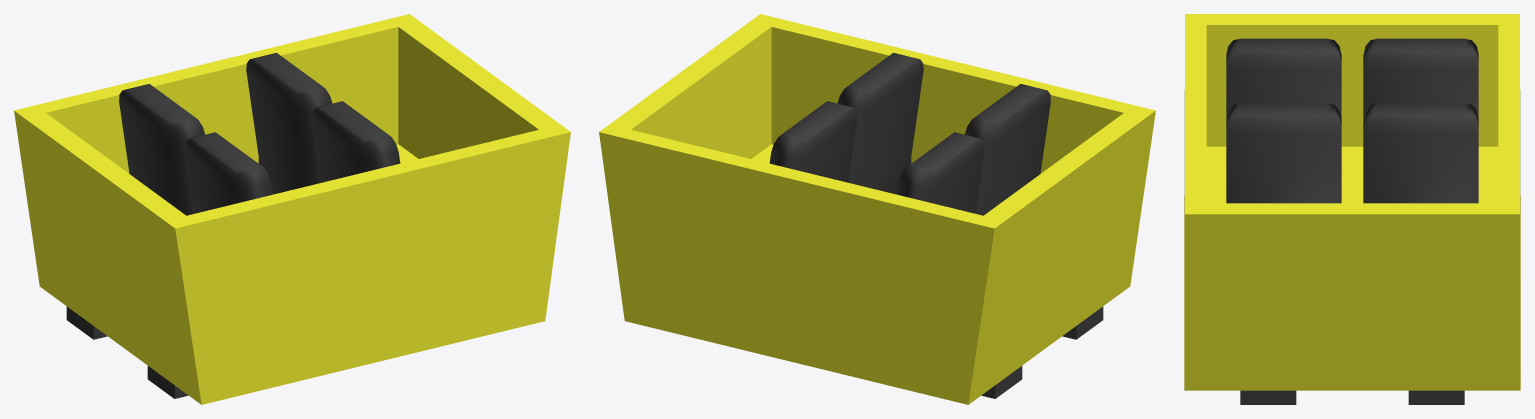
File: coaster.fbx
3 views of the same model, side by side, from view 1: azimuth 30°, elevation 25°; view 2: azimuth 150°, elevation 25°; view 3: azimuth 270°, elevation 25° (orthographic). The views are drawn at different scales.
Parts seen in each view (by area): view 1: Cube, Cube.002; view 2: Cube, Cube.002; view 3: Cube, Cube.002.
Boxes of the visible parts, x1,y1,x2,y2 form: Cube: (14, 14, 570, 404); Cube.002: (119, 53, 400, 215); Cube: (599, 14, 1155, 404); Cube.002: (769, 53, 1050, 215); Cube: (1184, 14, 1520, 404); Cube.002: (1226, 38, 1478, 203).
Size of the model in its own units: 318 by 165 by 225.
